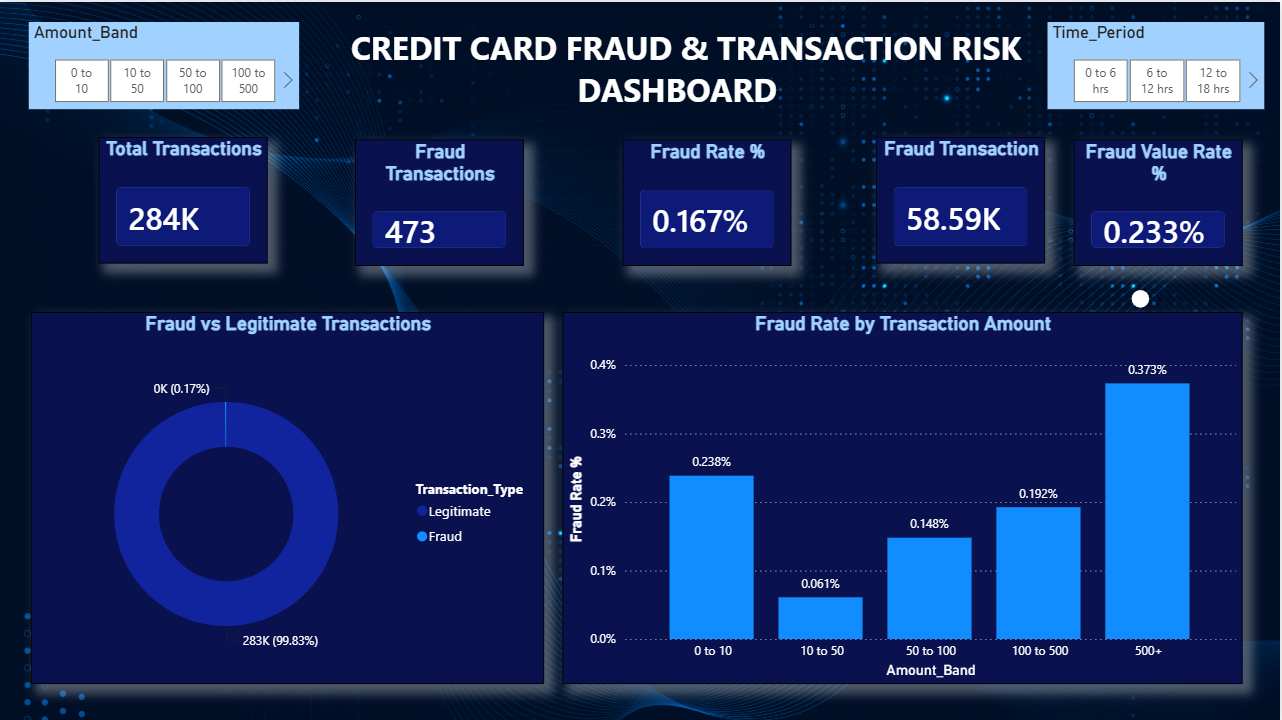

This screenshot's page, from the dashboard's own definition file:
{"tool":"powerbi","page":{"name":"CREDIT CARD FRAUD & TRANSACTION RISK DASHBOARD ","canvas":[1280,720],"ordinal":0},"visuals":[{"type":"cardVisual","title":"Total Transactions","fields":{"Data":["fraud_cleaned.Total Transactions"]},"box":[98.6,135.2,169,126.8],"z":0},{"type":"donutChart","title":"Fraud vs Legitimate Transactions","fields":{"Category":["fraud_cleaned.Transaction_Type"],"Y":["fraud_cleaned.Total Transactions"]},"box":[31,309.9,512.7,371.8],"z":1000},{"type":"clusteredColumnChart","title":"Fraud Rate by Transaction Amount","fields":{"Category":["fraud_cleaned.Amount_Band"],"Y":["fraud_cleaned.Fraud Rate %"]},"box":[562,310,680,372],"z":2000},{"type":"textbox","box":[315,18.3,733.3,115],"z":3000},{"type":"slicer","title":"Amount_Band","fields":{"Values":["fraud_cleaned.Amount_Band"]},"box":[28.2,19.7,270.4,87.3],"z":4000},{"type":"slicer","title":"Time_Period","fields":{"Values":["fraud_cleaned.Time_Period"]},"box":[1047.9,19.7,216.9,87.3],"z":5000},{"type":"cardVisual","title":"Fraud Transactions","fields":{"Data":["fraud_cleaned.Fraud Transactions"]},"box":[354.9,138,169,126.8],"z":6000},{"type":"cardVisual","title":"Fraud Rate %","fields":{"Data":["fraud_cleaned.Fraud Rate %"]},"box":[622.5,138,169,126.8],"z":7000},{"type":"cardVisual","title":"Fraud Transaction","fields":{"Data":["fraud_cleaned.Fraud Transaction Value"]},"box":[876.1,135.2,169,126.8],"z":8000},{"type":"cardVisual","title":"Fraud Value Rate %","fields":{"Data":["fraud_cleaned.Fraud Value Rate %"]},"box":[1073.3,138,169,126.8],"z":9000}]}

Visuals, with their boxes in screenshot pixels (x1, y1, x2, y2), scaled from the page's 1280x720 canvas onto the 1282x720 screenshot:
"Total Transactions" cardVisual: [99,135,268,262]
"Fraud vs Legitimate Transactions" donutChart: [31,310,545,682]
"Fraud Rate by Transaction Amount" clusteredColumnChart: [563,310,1244,682]
textbox: [315,18,1050,133]
"Amount_Band" slicer: [28,20,299,107]
"Time_Period" slicer: [1050,20,1267,107]
"Fraud Transactions" cardVisual: [355,138,525,265]
"Fraud Rate %" cardVisual: [623,138,793,265]
"Fraud Transaction" cardVisual: [877,135,1047,262]
"Fraud Value Rate %" cardVisual: [1075,138,1244,265]
